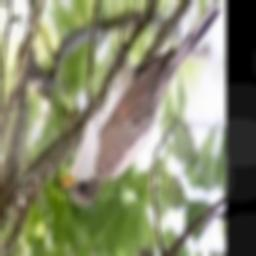Cuckoo: (54, 0, 220, 204)
